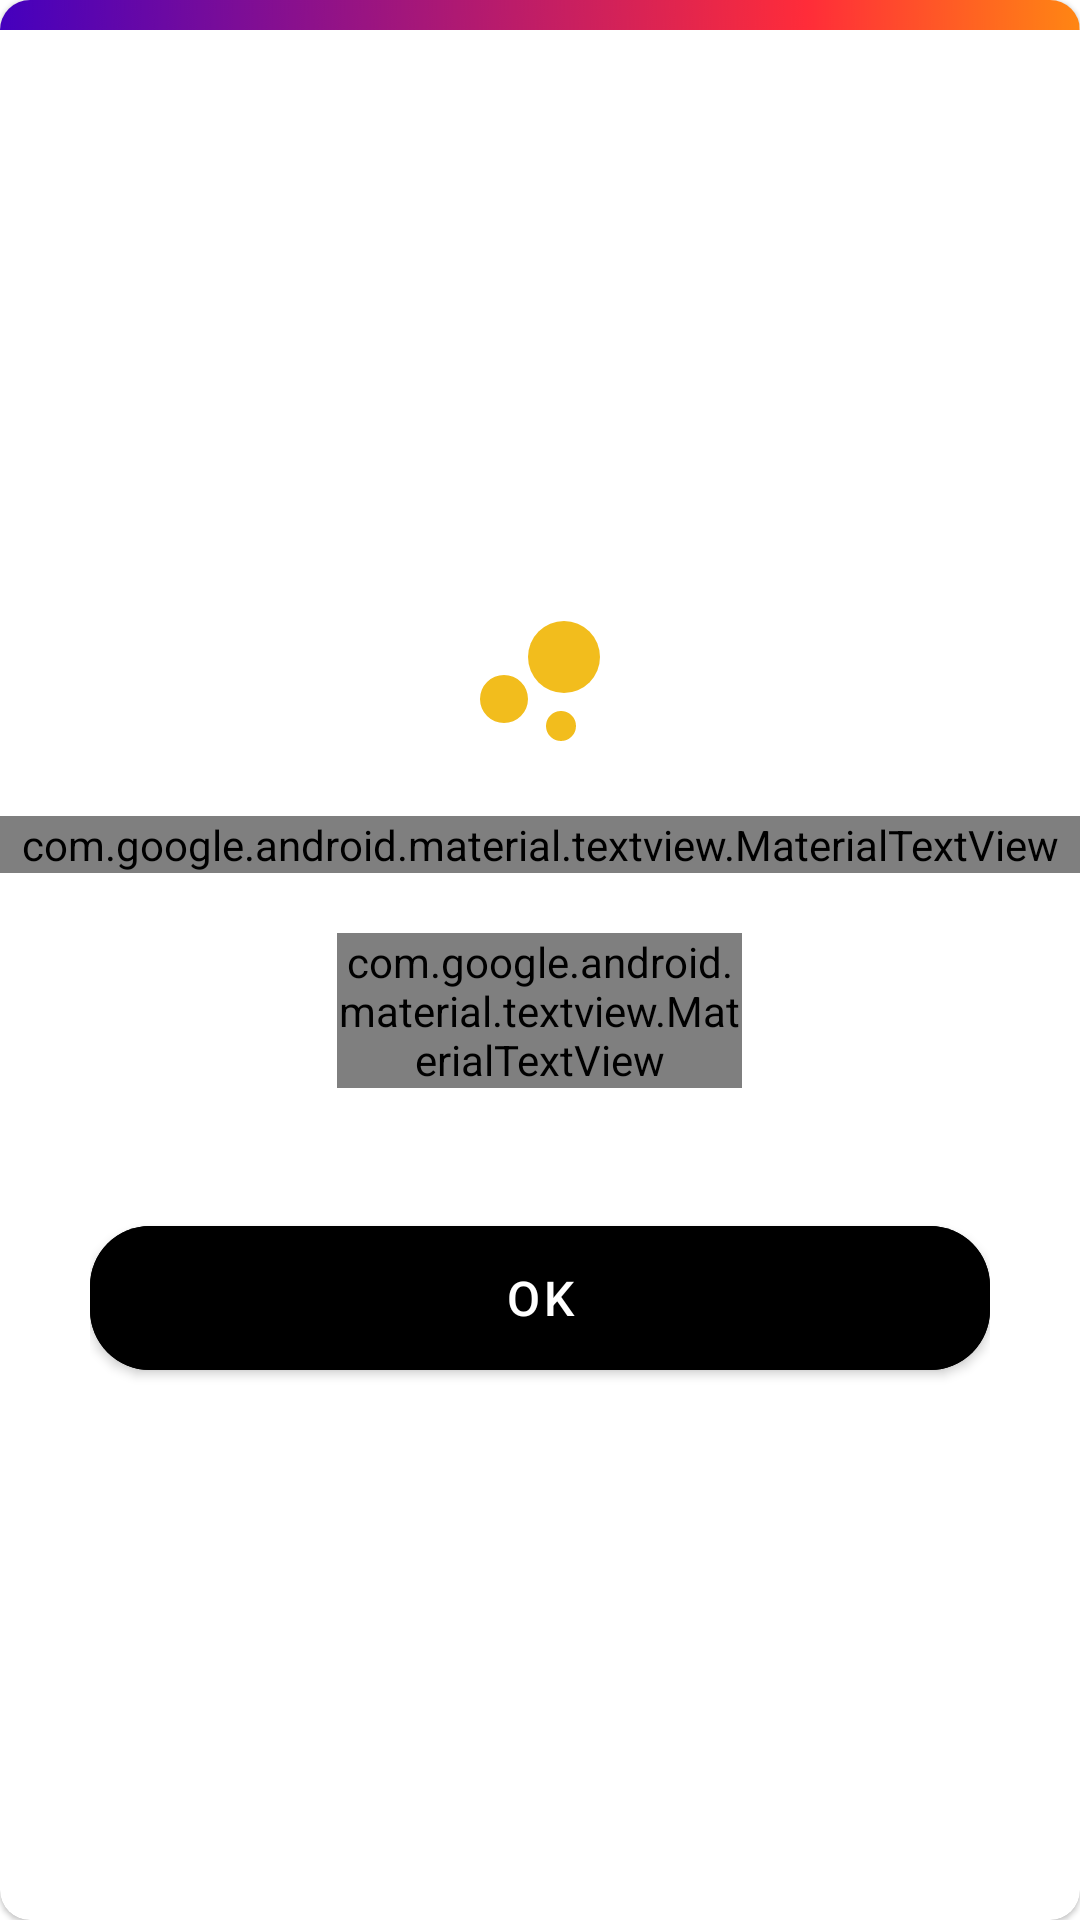

Icons on this 1080px x 1920px Android screen, each with its box as [x1, y1, x2, y2]:
bubble: [480, 621, 600, 741]
